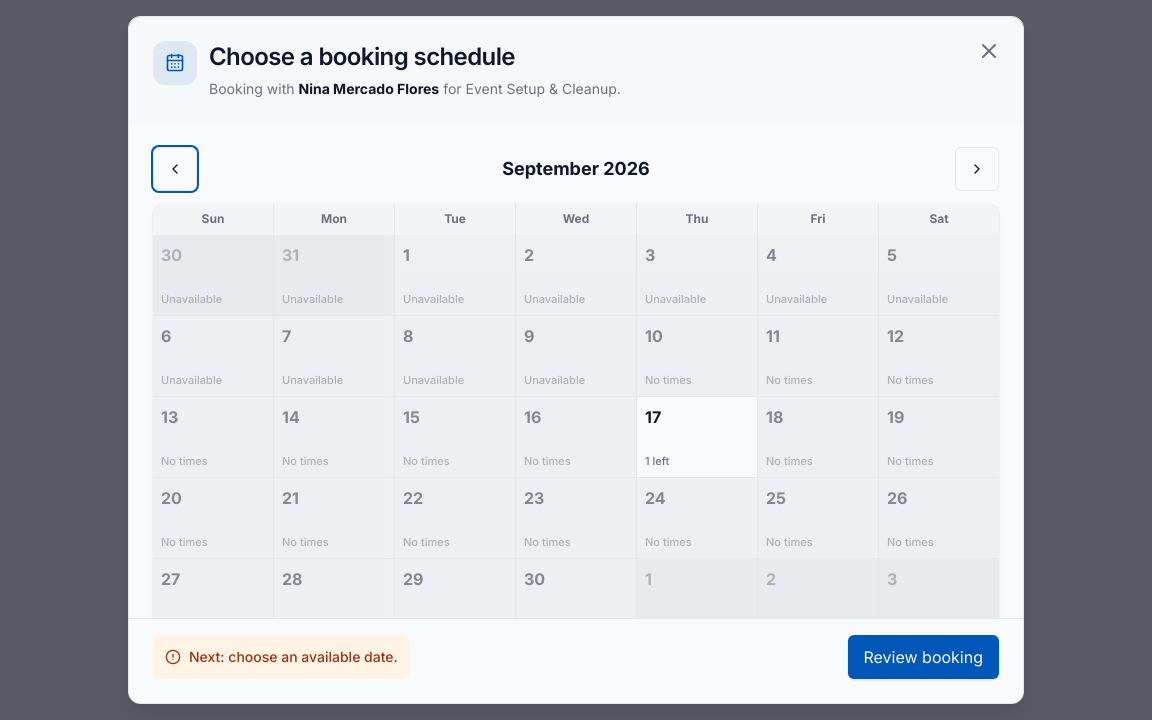
Scenario: BookingCalendarModal › does not borrow next week's weekday slot for a date with no availability
The width and height of the screenshot is (1152, 720).
Check: the cell named "Thursday, September 10, 2026, no times offered" is disabled, box x1=637 y1=316 x2=757 y2=396
Click the cell named "Thursday, September 17, 2026, 1 slot available": (697, 437) x1=637 y1=397 x2=757 y2=477
(page scrolled)
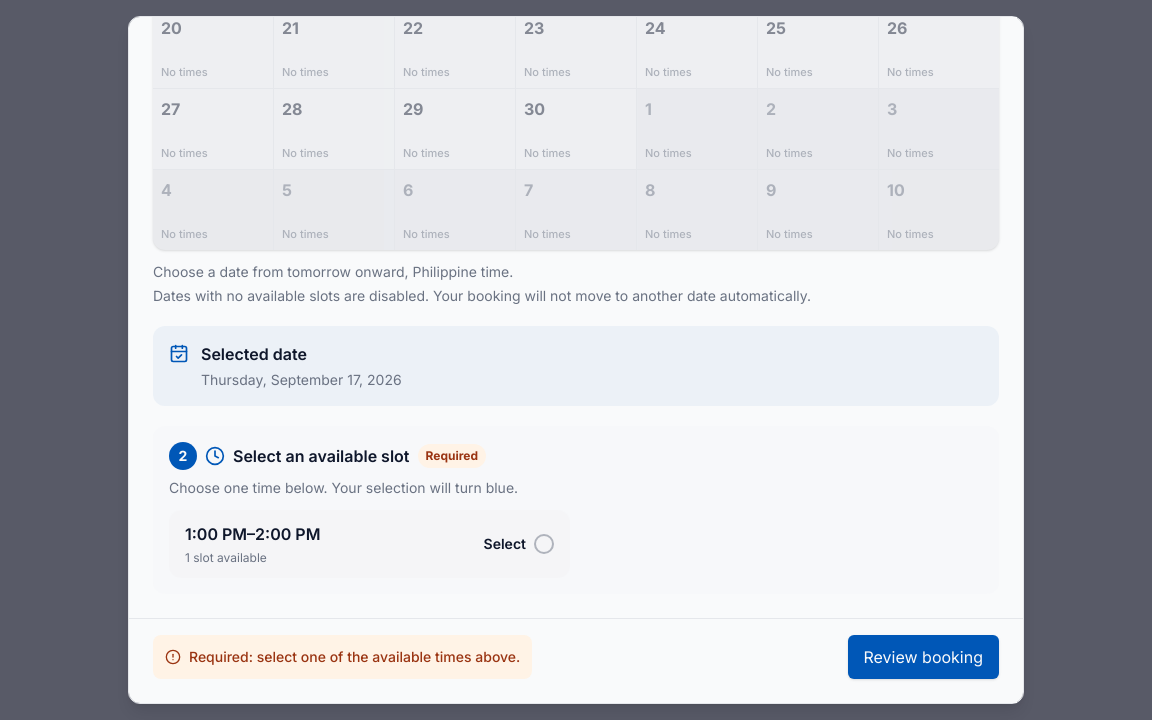
Check: the button "1:00 PM–2:00 PM 1 slot available Select" is enabled, box x1=169 y1=510 x2=570 y2=578
